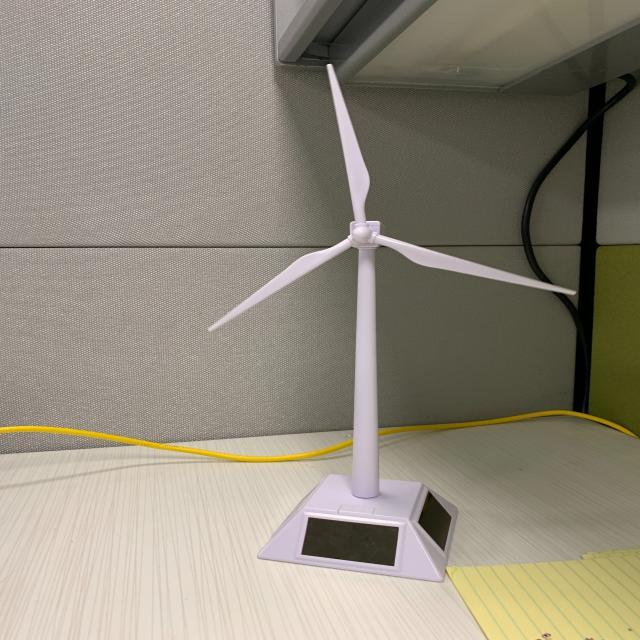solid-blade: (209, 238, 351, 331), (375, 236, 575, 294), (328, 64, 369, 221)
